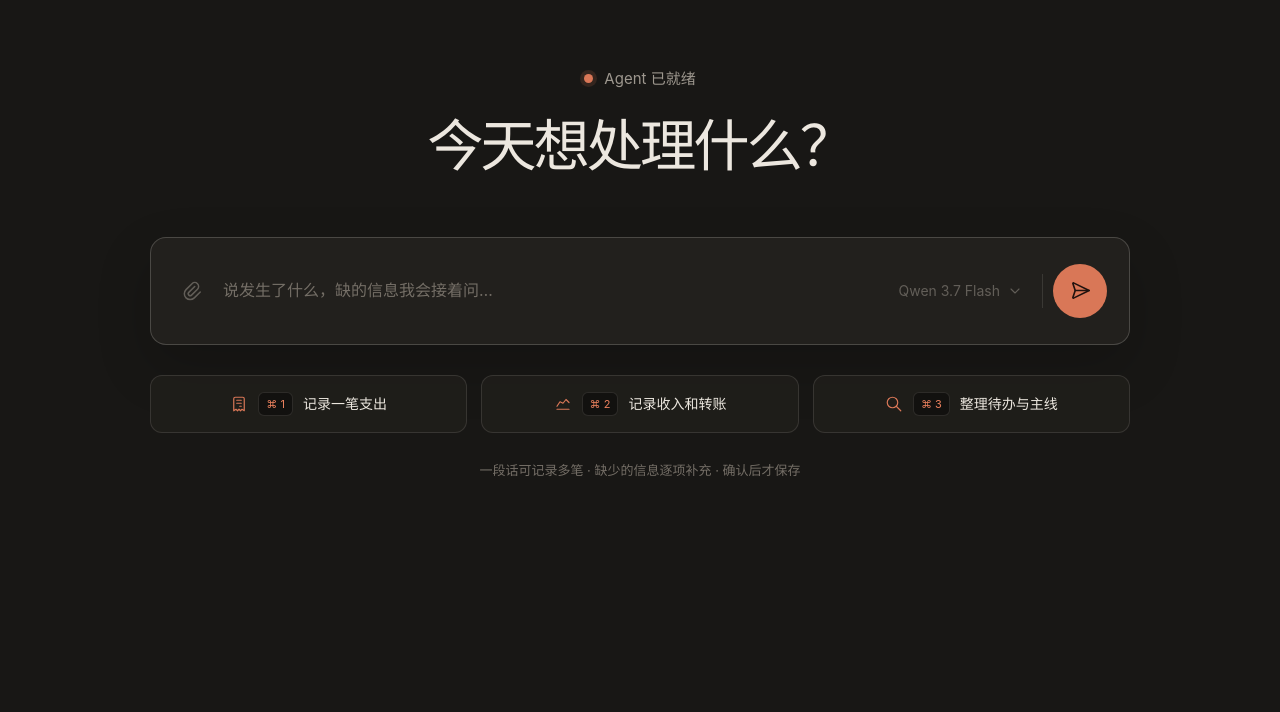
Test: preserves affairs previews and protects the shared composer for unknown saves
This screenshot has width=1280, height=712.
In the text box named "给 Agent 发消息": x=550, y=291 [221,276,880,306], type "面试"
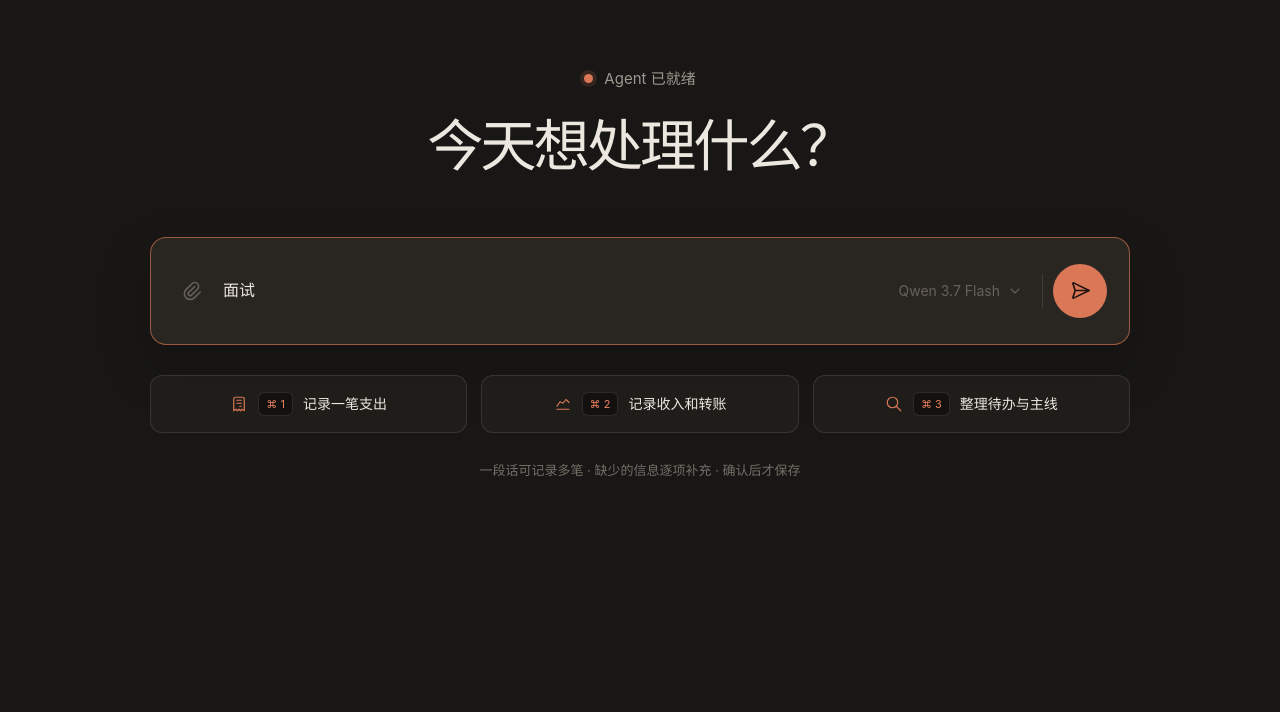
Click the button named "发送消息": x=1080, y=291 [1053,264,1107,318]
(page scrolled)
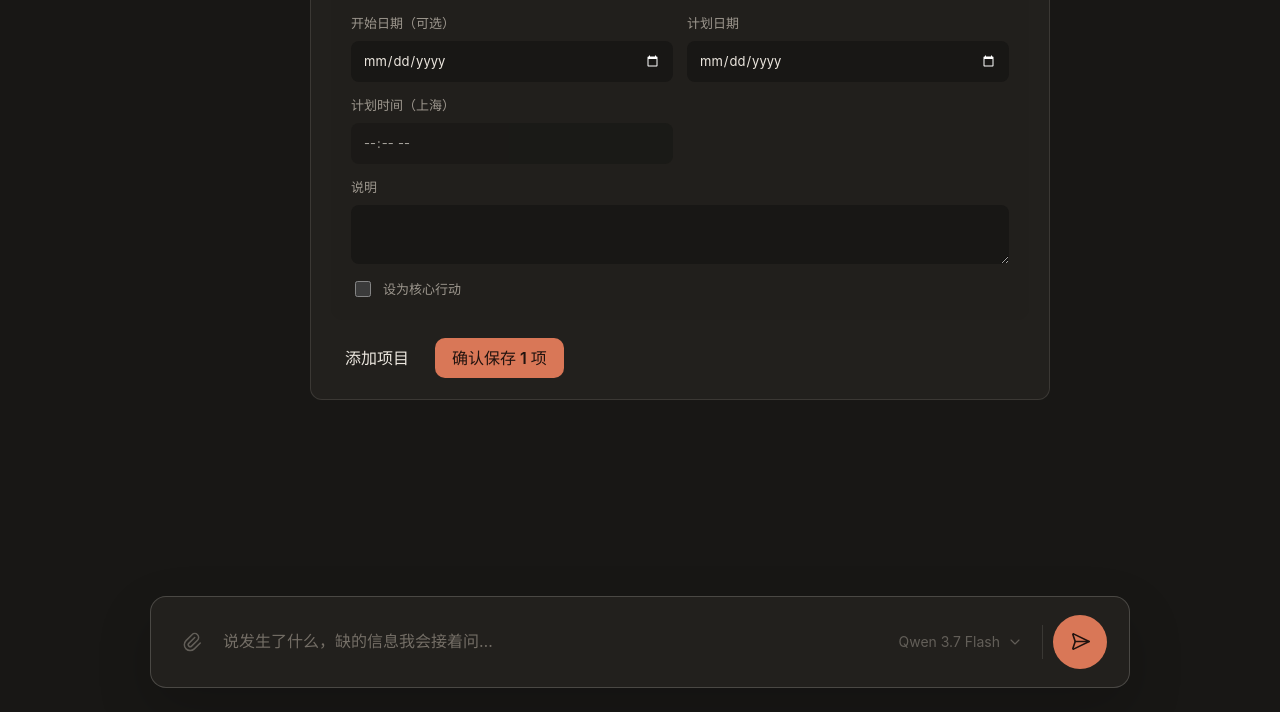
Click the button "确认保存 1 项": x=499, y=358 [435,338,564,378]
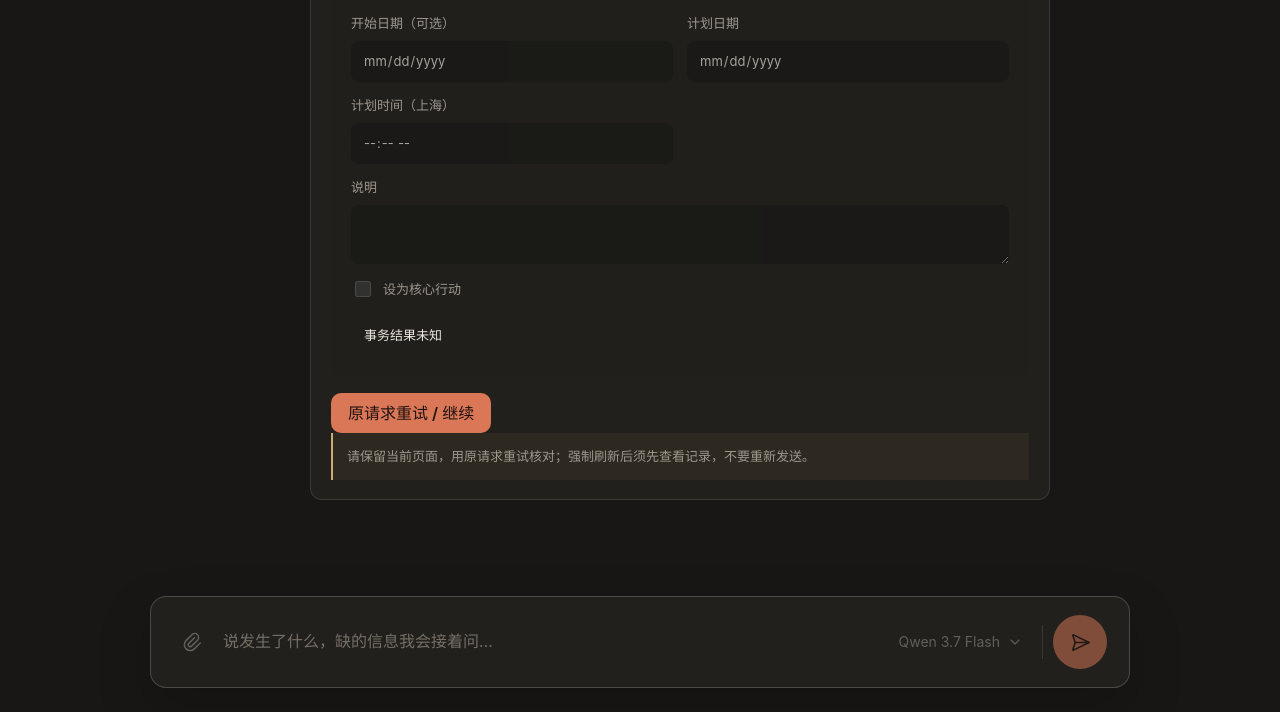
Expected: the text box named "给 Agent 发消息" is disabled, [221,627,880,657]
Expected: the message reads "事务结果未知", [364,327,442,343]
